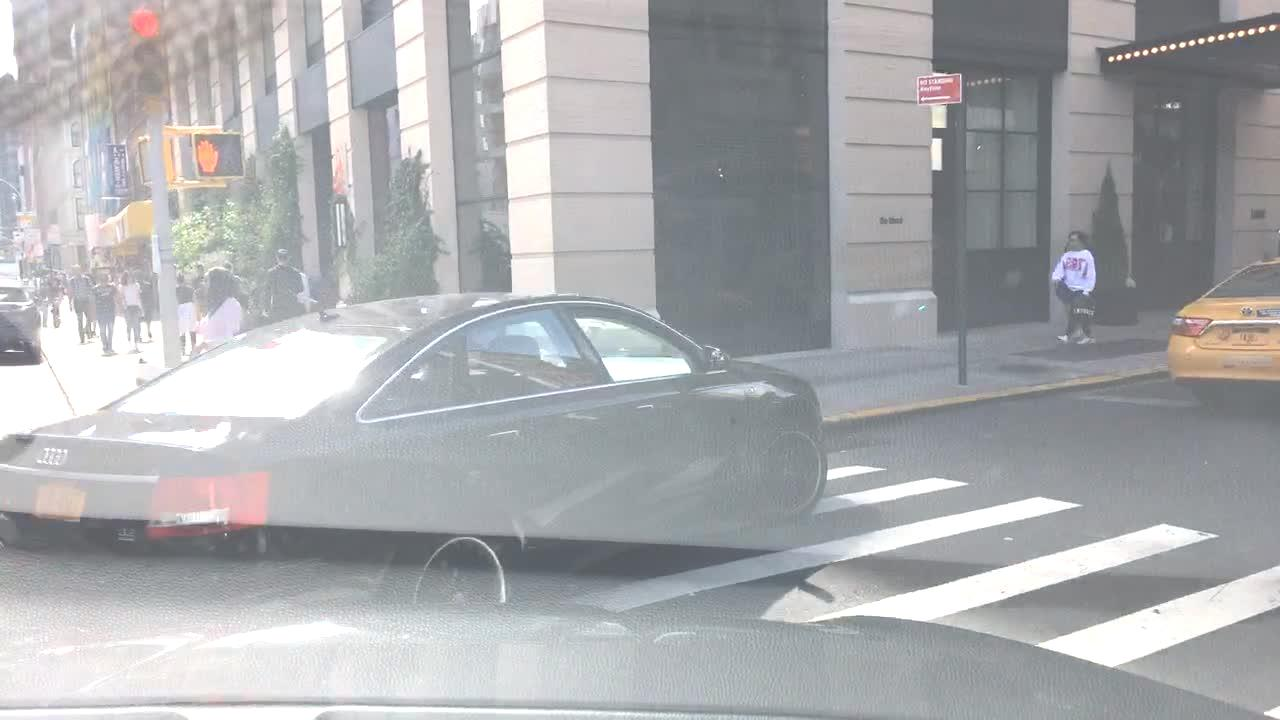Audi: (33, 443, 71, 471)
